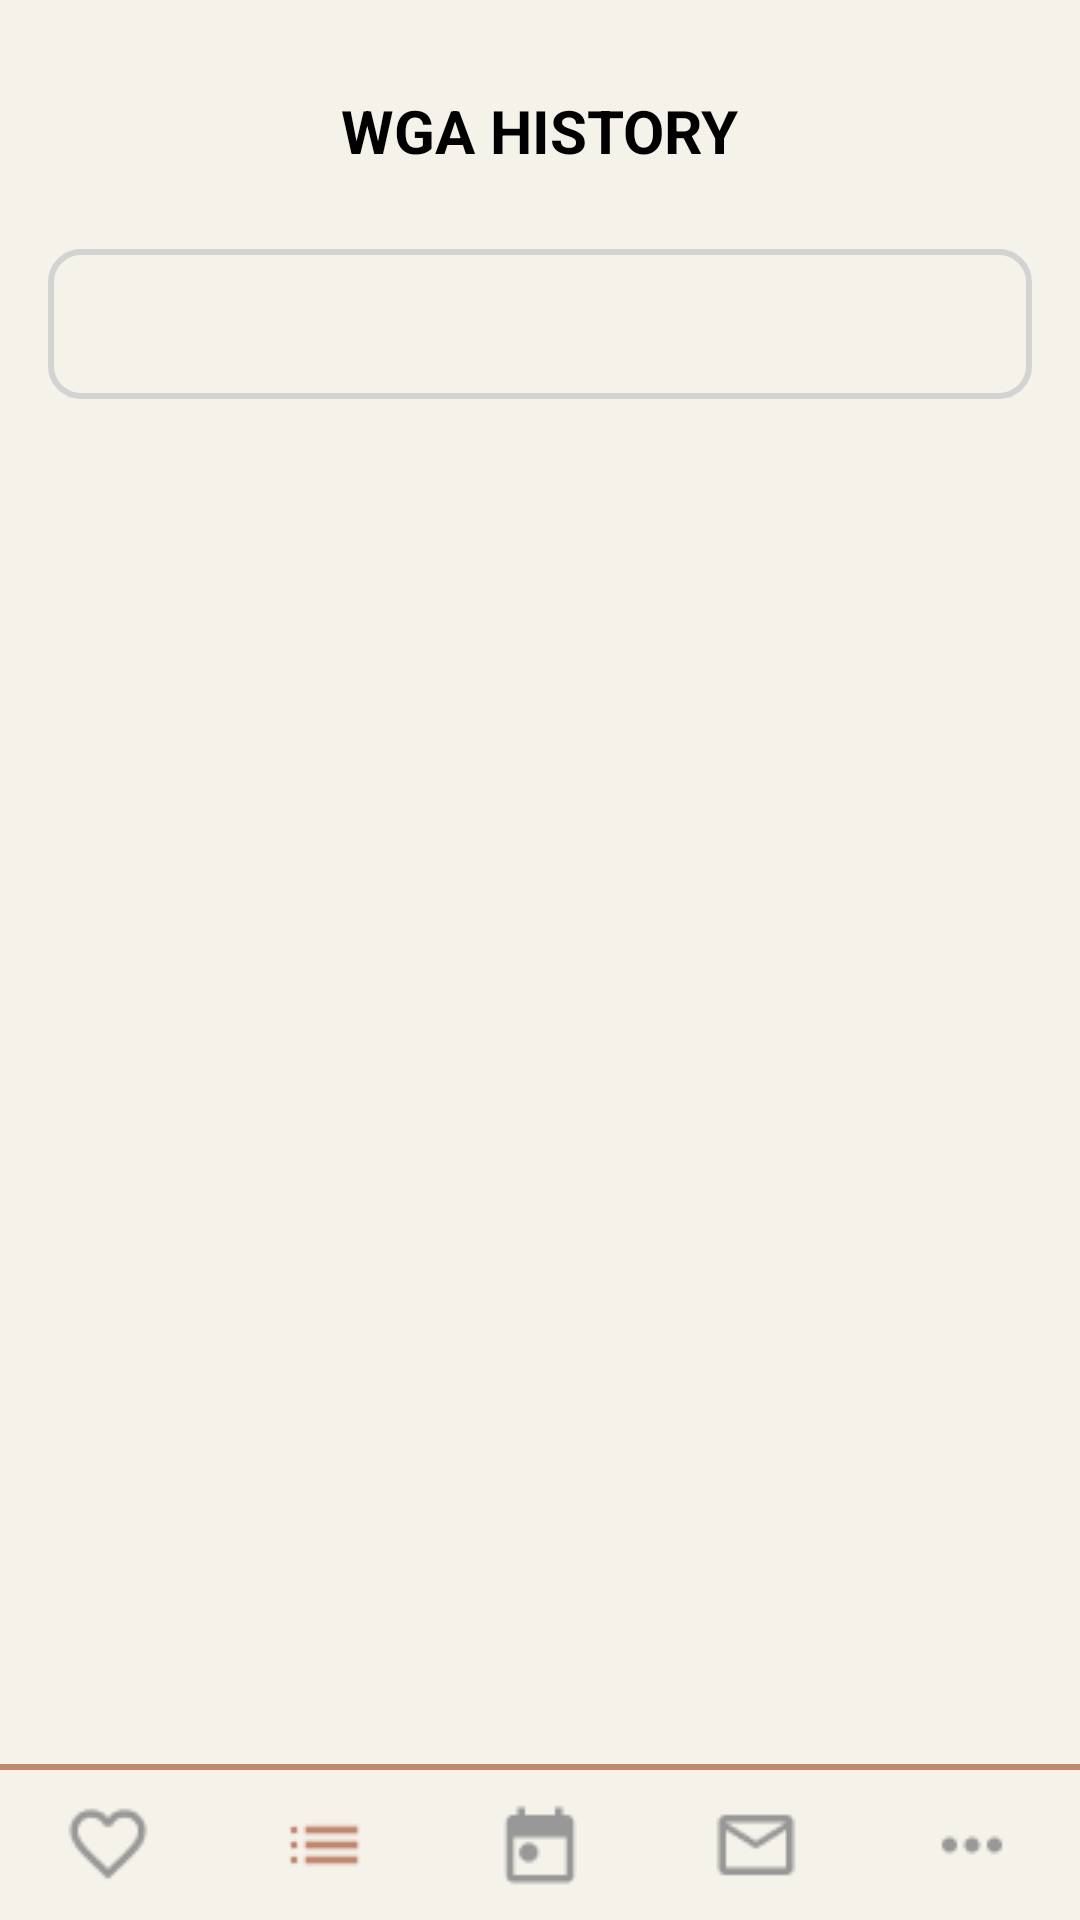

Icons on this 1080x1920 Android screen, each with its box as (x1=x1, y1=y1, x2=x2, y2=y2):
favorite: (x1=69, y1=1809, x2=147, y2=1879)
list: (x1=290, y1=1825, x2=359, y2=1865)
mail: (x1=717, y1=1814, x2=795, y2=1876)
more horiz: (x1=941, y1=1836, x2=1003, y2=1854)
today: (x1=506, y1=1806, x2=574, y2=1884)
